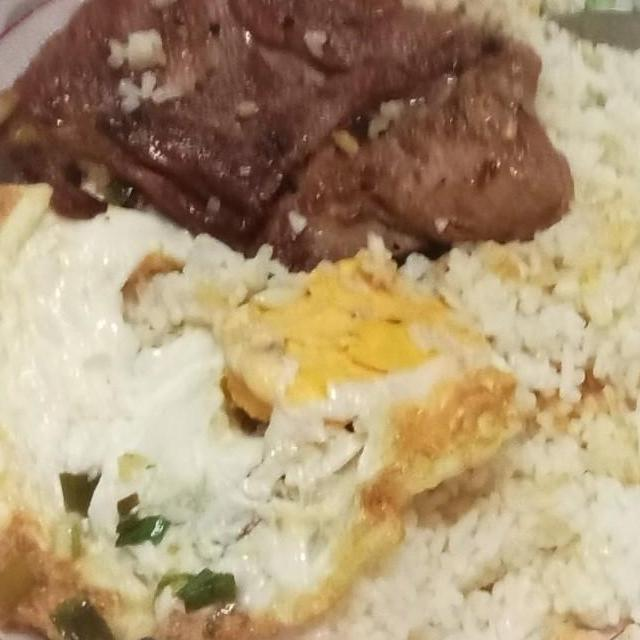com: (59, 413, 468, 640), (0, 240, 141, 640), (463, 352, 640, 640)
suon: (374, 20, 640, 528)
trung: (0, 0, 534, 486)
